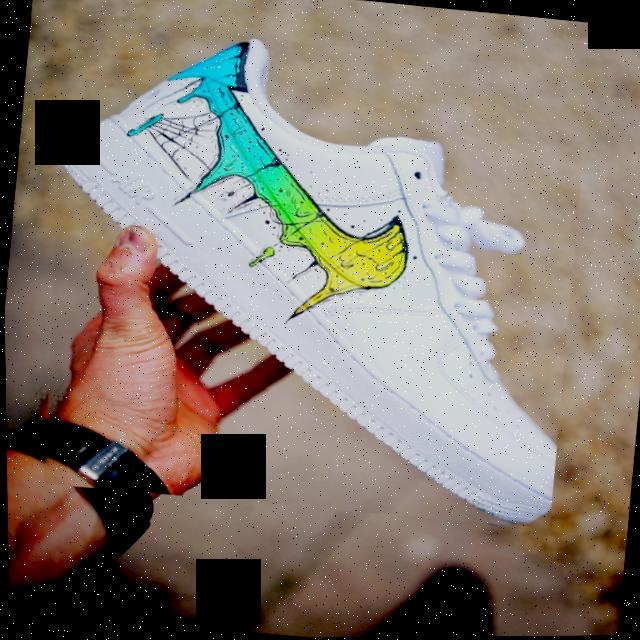shoe: (16, 17, 596, 536)
